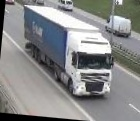van: (57, 0, 73, 9)
